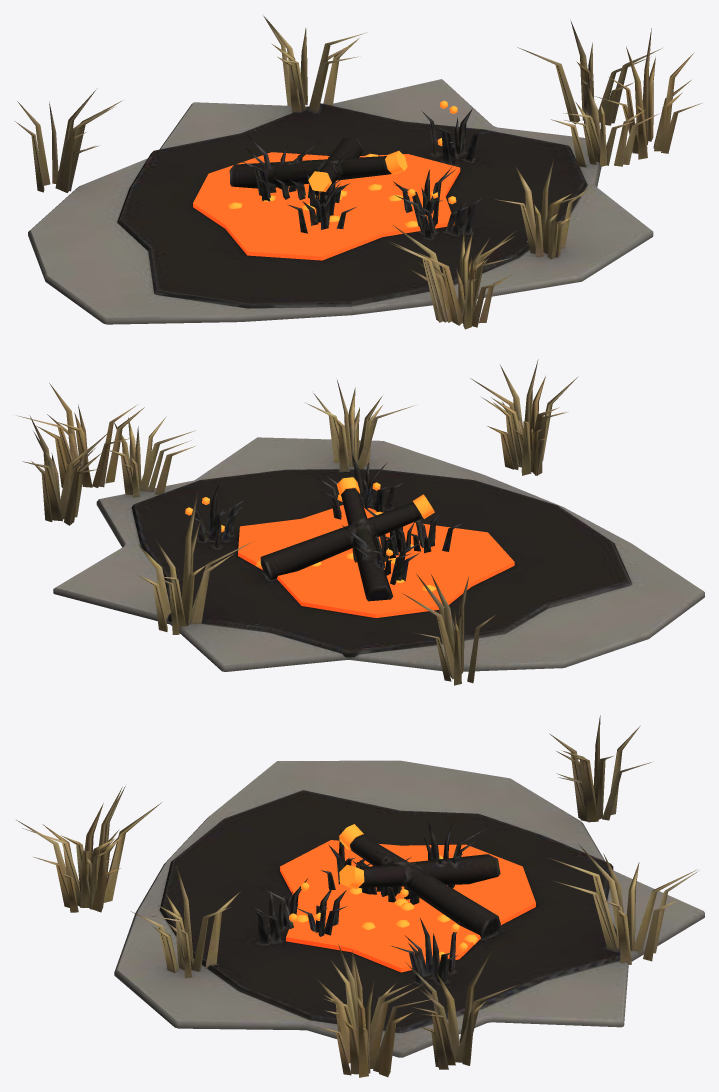
The model's file is flame_small.glb.
3 views of the same model, one above another, from view 1: azimuth 30°, elevation 25°; view 2: azimuth 150°, elevation 25°; view 3: azimuth 270°, elevation 25° (orthographic). The views are drawn at different scales.
Parts seen in each view (by area): view 1: flame_small, flame_small_glow; view 2: flame_small, flame_small_glow; view 3: flame_small, flame_small_glow.
Part boxes in pixels (bbox=[...]): flame_small: bbox=[15, 16, 702, 329]; flame_small_glow: bbox=[193, 100, 460, 260]; flame_small: bbox=[17, 359, 704, 685]; flame_small_glow: bbox=[185, 477, 514, 617]; flame_small: bbox=[16, 715, 704, 1077]; flame_small_glow: bbox=[280, 824, 535, 972].
Size of the model in its own units: 2.34 by 0.3736 by 2.08.
3 materials, 1 textured.
